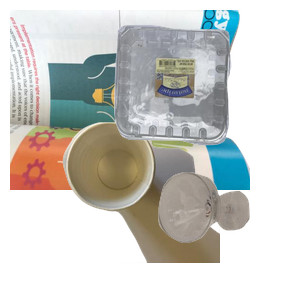glass: (156, 170, 300, 300)
paper: (10, 10, 250, 190)
plastic: (112, 22, 300, 160)
trash: (60, 120, 300, 300)
